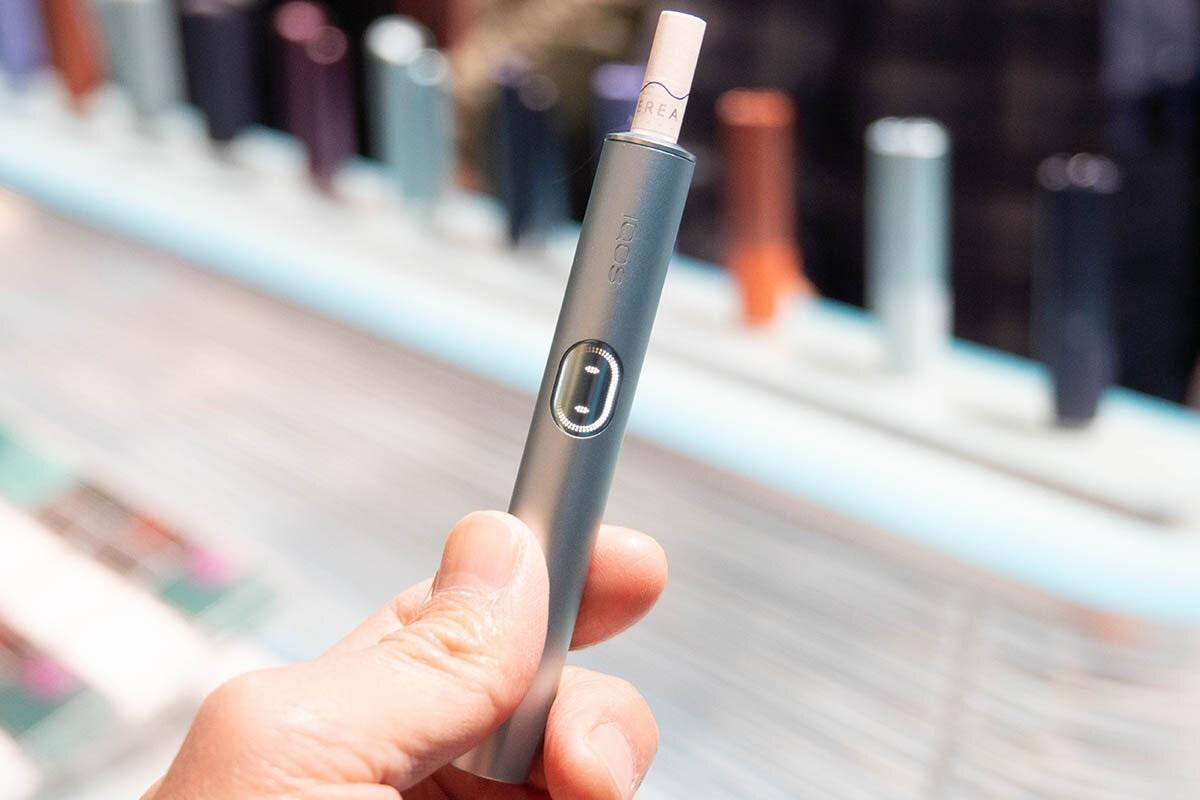iqos: (439, 13, 705, 782)
